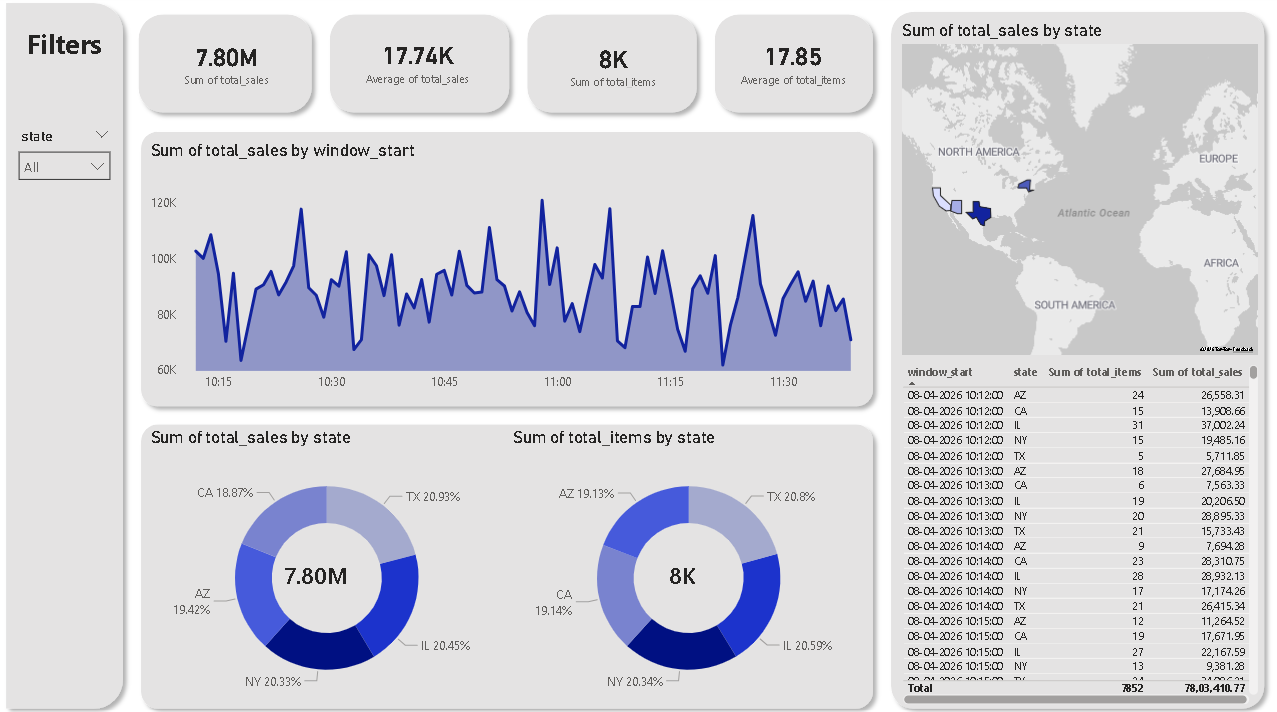

The dashboard page shown, as its layout file describes it:
{"tool":"powerbi","page":{"name":"Page 1","canvas":[1280,720],"ordinal":0},"visuals":[{"type":"shape","box":[0,0,134.5,720.4],"z":0,"group":"g7"},{"type":"shape","box":[131.9,11.2,190.3,115.7],"z":0,"group":"g1"},{"type":"shape","box":[322.2,11.2,196.5,115.7],"z":0,"group":"g4"},{"type":"shape","box":[518.7,11.2,186.6,115.7],"z":0,"group":"g3"},{"type":"shape","box":[705.3,11.2,175.4,115.7],"z":0,"group":"g2"},{"type":"shape","box":[134.3,128.1,746.4,291.1],"z":0,"group":"g5"},{"type":"shape","box":[134.3,419.2,746.4,301],"z":0,"group":"g6"},{"type":"shape","box":[880.7,8.7,389.4,711.5],"z":1000},{"type":"cardVisual","fields":{"Data":["Avg(gold_orders.total_items)"]},"box":[711.3,23.1,162.2,93.4],"z":1000,"group":"g2"},{"type":"cardVisual","fields":{"Data":["Avg(gold_orders.total_sales)"]},"box":[337.7,26.4,163.8,86.5],"z":1000,"group":"g4"},{"type":"cardVisual","fields":{"Data":["Sum(gold_orders.total_sales)"]},"box":[154.1,32.3,148.7,76.7],"z":1000,"group":"g1"},{"type":"cardVisual","fields":{"Data":["Sum(gold_orders.total_items)"]},"box":[540.1,34.8,146.1,75.1],"z":1000,"group":"g3"},{"type":"slicer","fields":{"Values":["gold_orders.state"]},"box":[11.2,128.1,112,87.1],"z":1000,"group":"g7"},{"type":"areaChart","fields":{"Y":["Sum(gold_orders.total_sales)"],"Category":["gold_orders.window_start"]},"box":[148.5,145.4,720.9,258.7],"z":1004,"group":"g5"},{"type":"group","id":"g1","title":"Group 1","box":[131.9,11.2,190.3,115.7],"z":2000},{"type":"textbox","box":[11.2,26.1,112,64.7],"z":2000,"group":"g7"},{"type":"group","id":"g2","title":"Group 1","box":[705.3,11.2,175.4,115.7],"z":3000},{"type":"group","id":"g3","title":"Group 1","box":[518.7,11.2,186.6,115.7],"z":4000},{"type":"group","id":"g4","title":"Group 1","box":[322.2,11.2,196.5,115.7],"z":5000},{"type":"group","id":"g5","title":"Group 2","box":[134.3,128.1,746.4,291.1],"z":6000},{"type":"azureMap","fields":{"Category":["gold_orders.state"],"X":["Sum(gold_orders.total_sales)"]},"box":[895.7,26.1,364.5,338.4],"z":7000},{"type":"tableEx","fields":{"Values":["gold_orders.window_start","gold_orders.state","Sum(gold_orders.total_items)","Sum(gold_orders.total_sales)"]},"box":[895.7,364.5,364.5,347.1],"z":8000},{"type":"group","id":"g6","title":"Group 2","box":[134.3,419.2,746.4,301],"z":9000},{"type":"donutChart","fields":{"Y":["Sum(gold_orders.total_sales)"],"Category":["gold_orders.state"]},"box":[148,430.4,360.7,281.1],"z":10000},{"type":"donutChart","fields":{"Category":["gold_orders.state"],"Y":["Sum(gold_orders.total_items)"]},"box":[508.8,430.4,359.5,281.1],"z":11000},{"type":"cardVisual","fields":{"Data":["Sum(gold_orders.total_sales)"]},"box":[256.3,527.4,143.1,98.3],"z":12000},{"type":"cardVisual","fields":{"Data":["Sum(gold_orders.total_items)"]},"box":[639.4,532.4,102,87.1],"z":13000},{"type":"group","id":"g7","title":"Group 3","box":[0,0,134.5,720.4],"z":14002}]}

Visuals, with their boxes in screenshot pixels (x1, y1, x2, y2), scaled from the page's 1280x720 canvas onto the 1277x712 screenshot:
shape: (x1=0, y1=0, x2=134, y2=711)
shape: (x1=132, y1=11, x2=321, y2=125)
shape: (x1=321, y1=11, x2=517, y2=125)
shape: (x1=517, y1=11, x2=704, y2=125)
shape: (x1=704, y1=11, x2=879, y2=125)
shape: (x1=134, y1=127, x2=879, y2=415)
shape: (x1=134, y1=415, x2=879, y2=711)
shape: (x1=879, y1=9, x2=1267, y2=711)
cardVisual - Avg(gold_orders.total_items): (x1=710, y1=23, x2=871, y2=115)
cardVisual - Avg(gold_orders.total_sales): (x1=337, y1=26, x2=500, y2=112)
cardVisual - Sum(gold_orders.total_sales): (x1=154, y1=32, x2=302, y2=108)
cardVisual - Sum(gold_orders.total_items): (x1=539, y1=34, x2=685, y2=109)
slicer - gold_orders.state: (x1=11, y1=127, x2=123, y2=213)
areaChart - Sum(gold_orders.total_sales) x gold_orders.window_start: (x1=148, y1=144, x2=867, y2=400)
"Group 1" group: (x1=132, y1=11, x2=321, y2=125)
textbox: (x1=11, y1=26, x2=123, y2=90)
"Group 1" group: (x1=704, y1=11, x2=879, y2=125)
"Group 1" group: (x1=517, y1=11, x2=704, y2=125)
"Group 1" group: (x1=321, y1=11, x2=517, y2=125)
"Group 2" group: (x1=134, y1=127, x2=879, y2=415)
azureMap - gold_orders.state x Sum(gold_orders.total_sales): (x1=894, y1=26, x2=1257, y2=360)
tableEx - gold_orders.window_start x gold_orders.state: (x1=894, y1=360, x2=1257, y2=704)
"Group 2" group: (x1=134, y1=415, x2=879, y2=711)
donutChart - Sum(gold_orders.total_sales) x gold_orders.state: (x1=148, y1=426, x2=508, y2=704)
donutChart - gold_orders.state x Sum(gold_orders.total_items): (x1=508, y1=426, x2=866, y2=704)
cardVisual - Sum(gold_orders.total_sales): (x1=256, y1=522, x2=398, y2=619)
cardVisual - Sum(gold_orders.total_items): (x1=638, y1=526, x2=740, y2=613)
"Group 3" group: (x1=0, y1=0, x2=134, y2=711)
